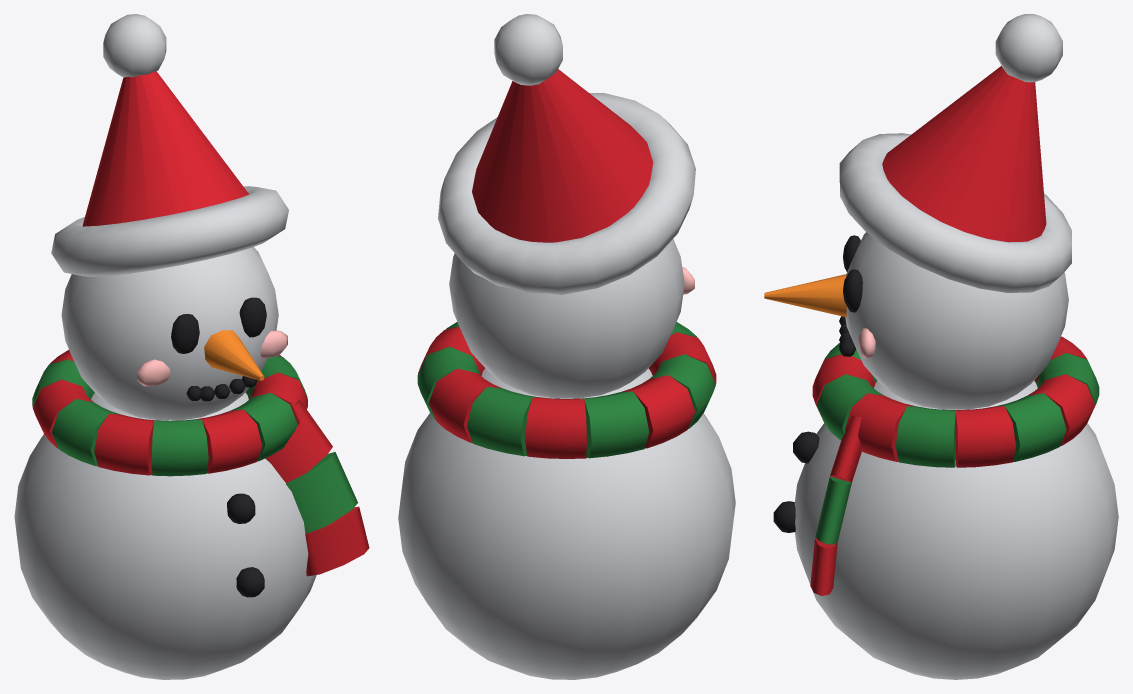
Rendered from XmasBobber2.glb.
3 views of the same model, side by side, from view 1: azimuth 30°, elevation 25°; view 2: azimuth 150°, elevation 25°; view 3: azimuth 270°, elevation 25° (orthographic). The views are drawn at different scales.
Visible parts, largest first — view 1: XmasBobber2__Snow, XmasBobber2__Red, XmasBobber2__Scarf, XmasBobber2__ScarfGreen, XmasBobber2__Coal, XmasBobber2__Carrot, XmasBobber2__FurPink; view 2: XmasBobber2__Snow, XmasBobber2__Red, XmasBobber2__Scarf, XmasBobber2__ScarfGreen; view 3: XmasBobber2__Snow, XmasBobber2__Red, XmasBobber2__Scarf, XmasBobber2__ScarfGreen, XmasBobber2__Coal, XmasBobber2__Carrot.
Boxes of the visible parts, x1,y1,x2,y2 form: XmasBobber2__Snow: (14,14,316,679); XmasBobber2__Red: (82,71,249,226); XmasBobber2__Scarf: (33,350,369,576); XmasBobber2__ScarfGreen: (32,355,357,533); XmasBobber2__Coal: (171,297,266,597); XmasBobber2__Carrot: (204,330,264,380); XmasBobber2__FurPink: (137,330,287,386); XmasBobber2__Snow: (398,14,735,679); XmasBobber2__Red: (472,69,653,242); XmasBobber2__Scarf: (418,326,716,458); XmasBobber2__ScarfGreen: (417,322,715,458); XmasBobber2__Snow: (794,14,1118,679); XmasBobber2__Red: (882,66,1046,242); XmasBobber2__Scarf: (810,336,1095,595); XmasBobber2__ScarfGreen: (815,343,1099,544); XmasBobber2__Coal: (773,235,862,532); XmasBobber2__Carrot: (764,274,846,317).
Size of the model in its own units: 0.34 by 0.7461 by 0.37.
